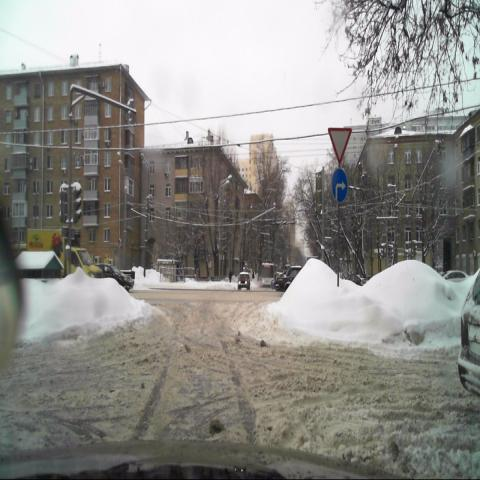4_1_2: (332, 167, 349, 204)
